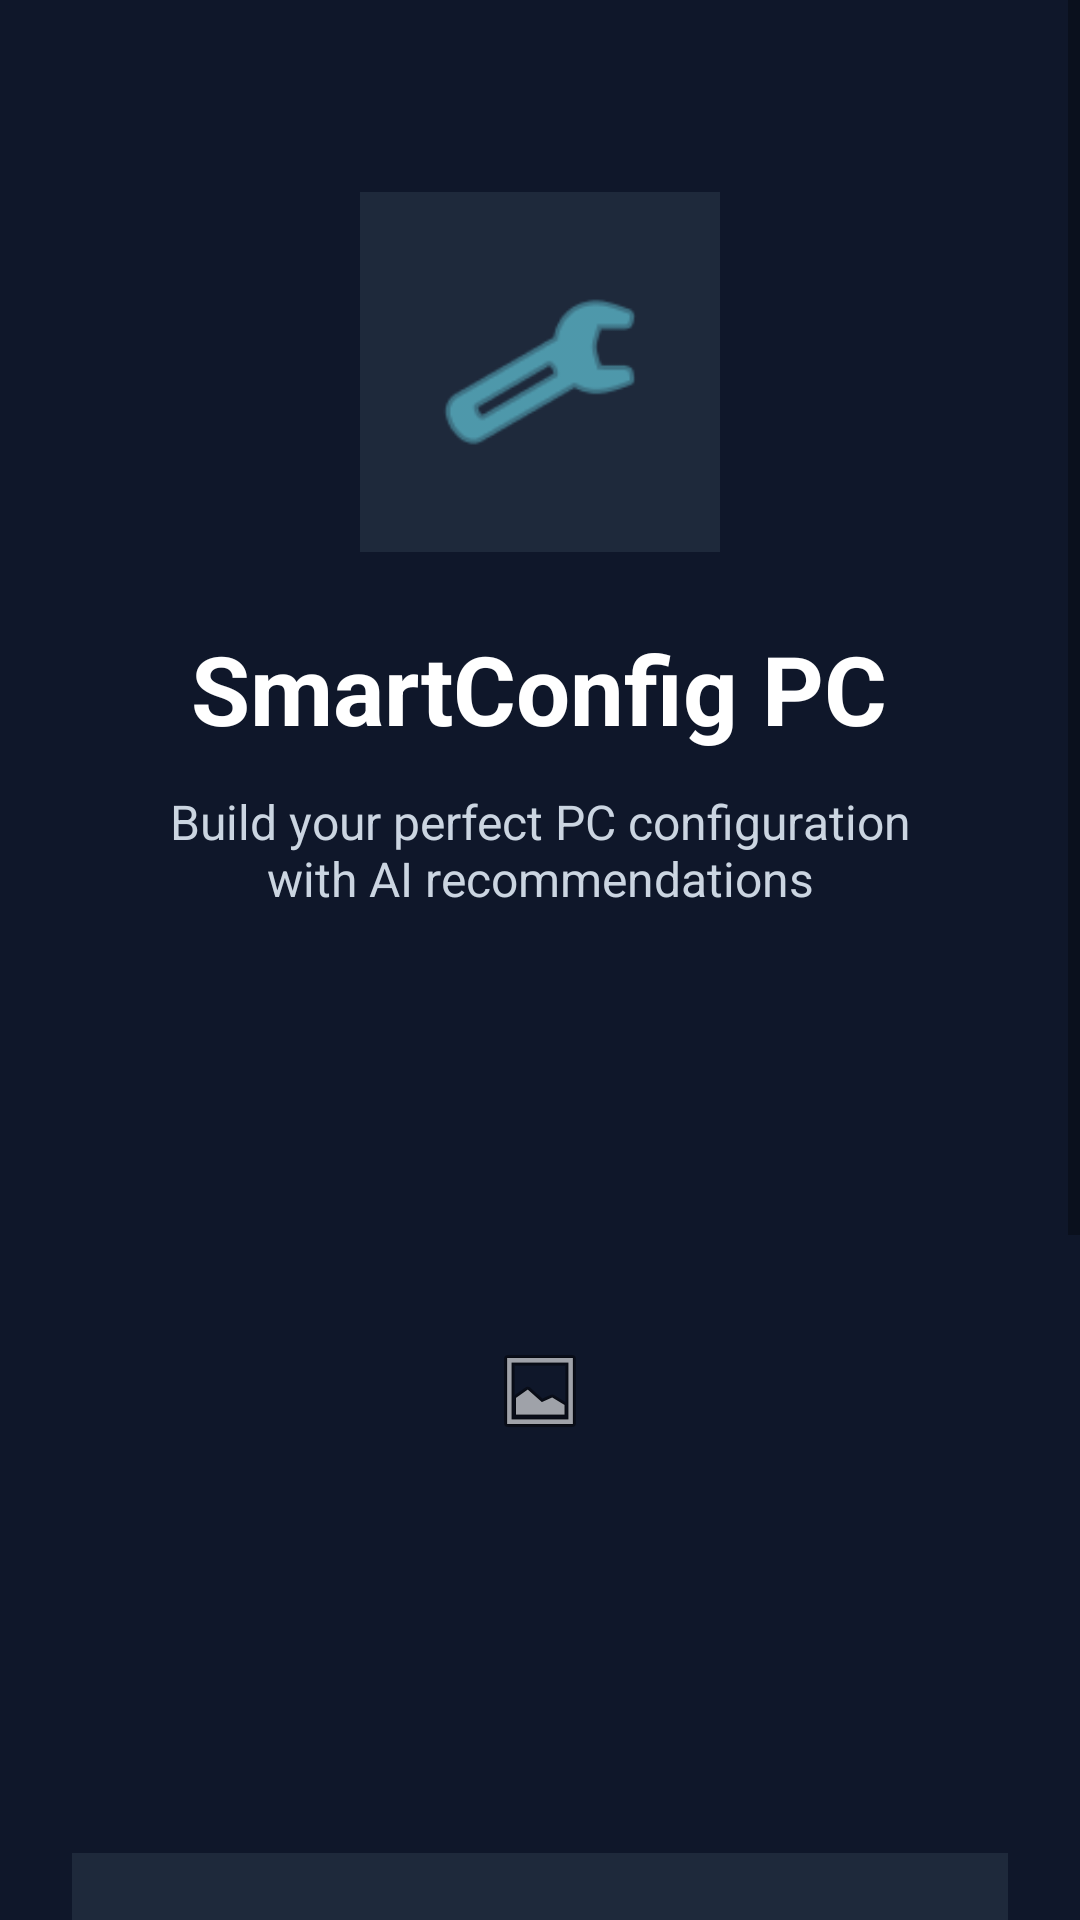

Screen size 1080×1920. Icon name, then its center in pixels as (x,y):
manage: (540,372)
